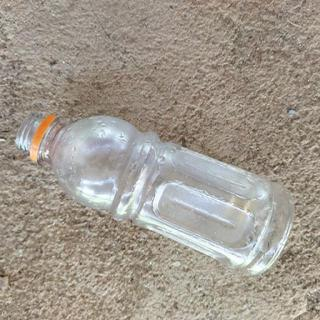Plastic-bottle: (15, 110, 296, 278)
